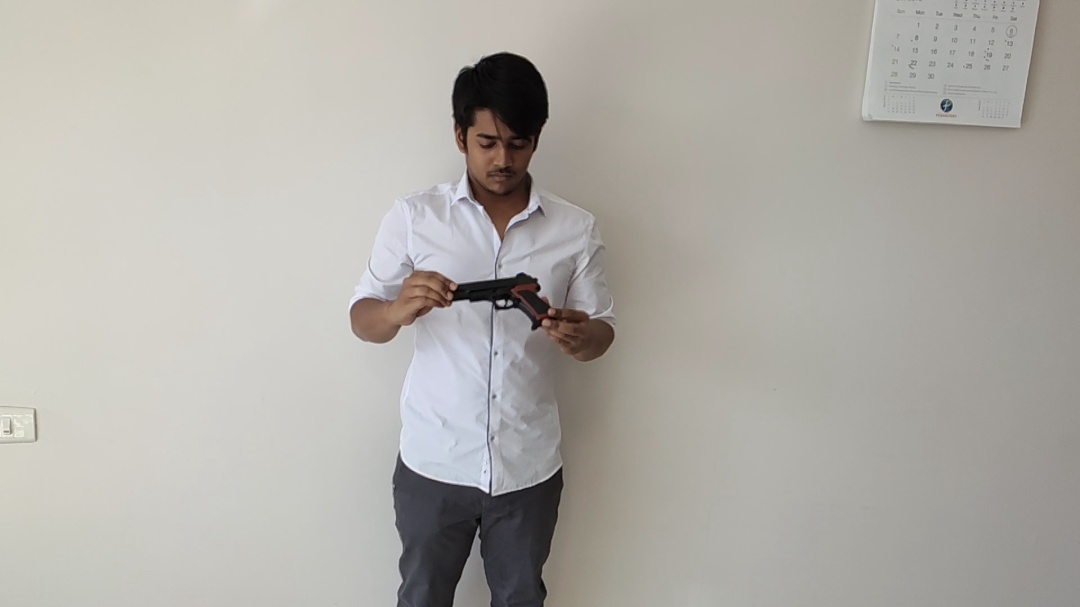gun: (455, 271, 548, 331)
